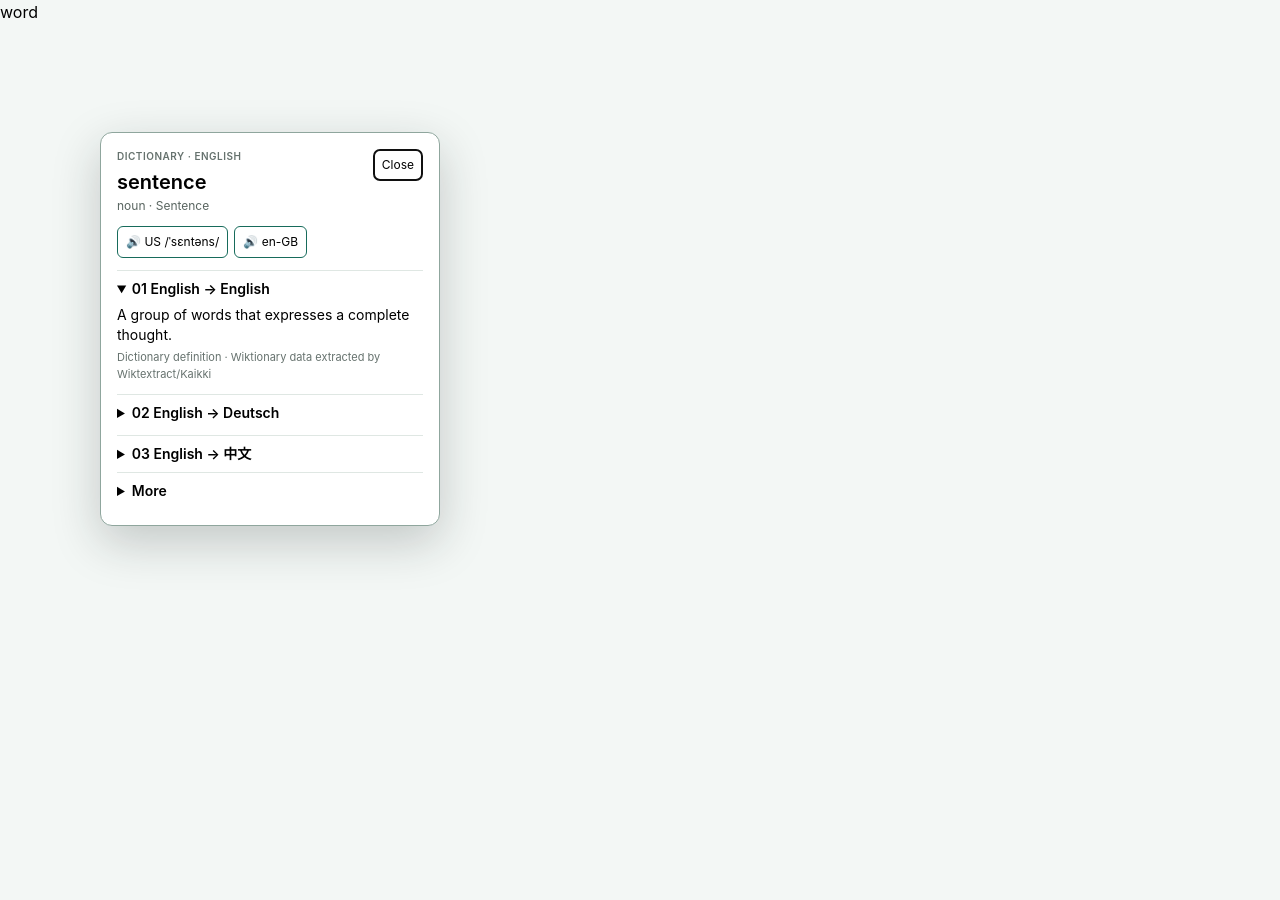
Scenario: DictionaryPanel › preserves the TTS error category tts_upstream_unavailable
Click the button "🔊 en-GB".
click(271, 242)  # box [234, 226, 307, 258]
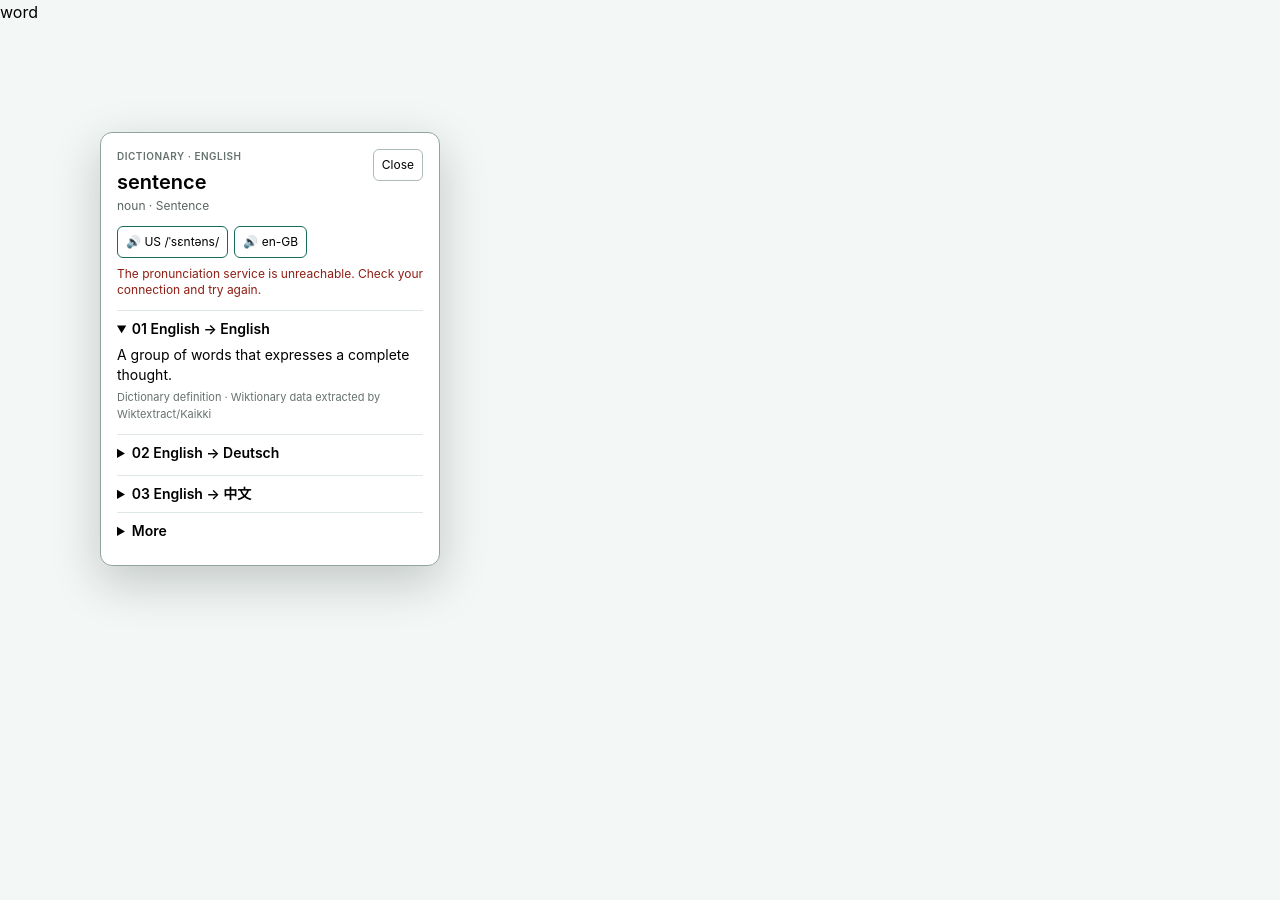
Expected: the message shows "pronunciation service is unreachable", [117, 266, 423, 297]
